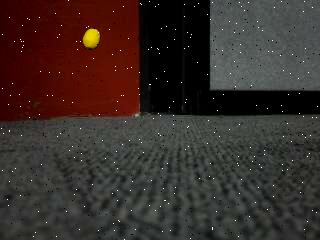Lemon: (80, 28, 101, 52)
